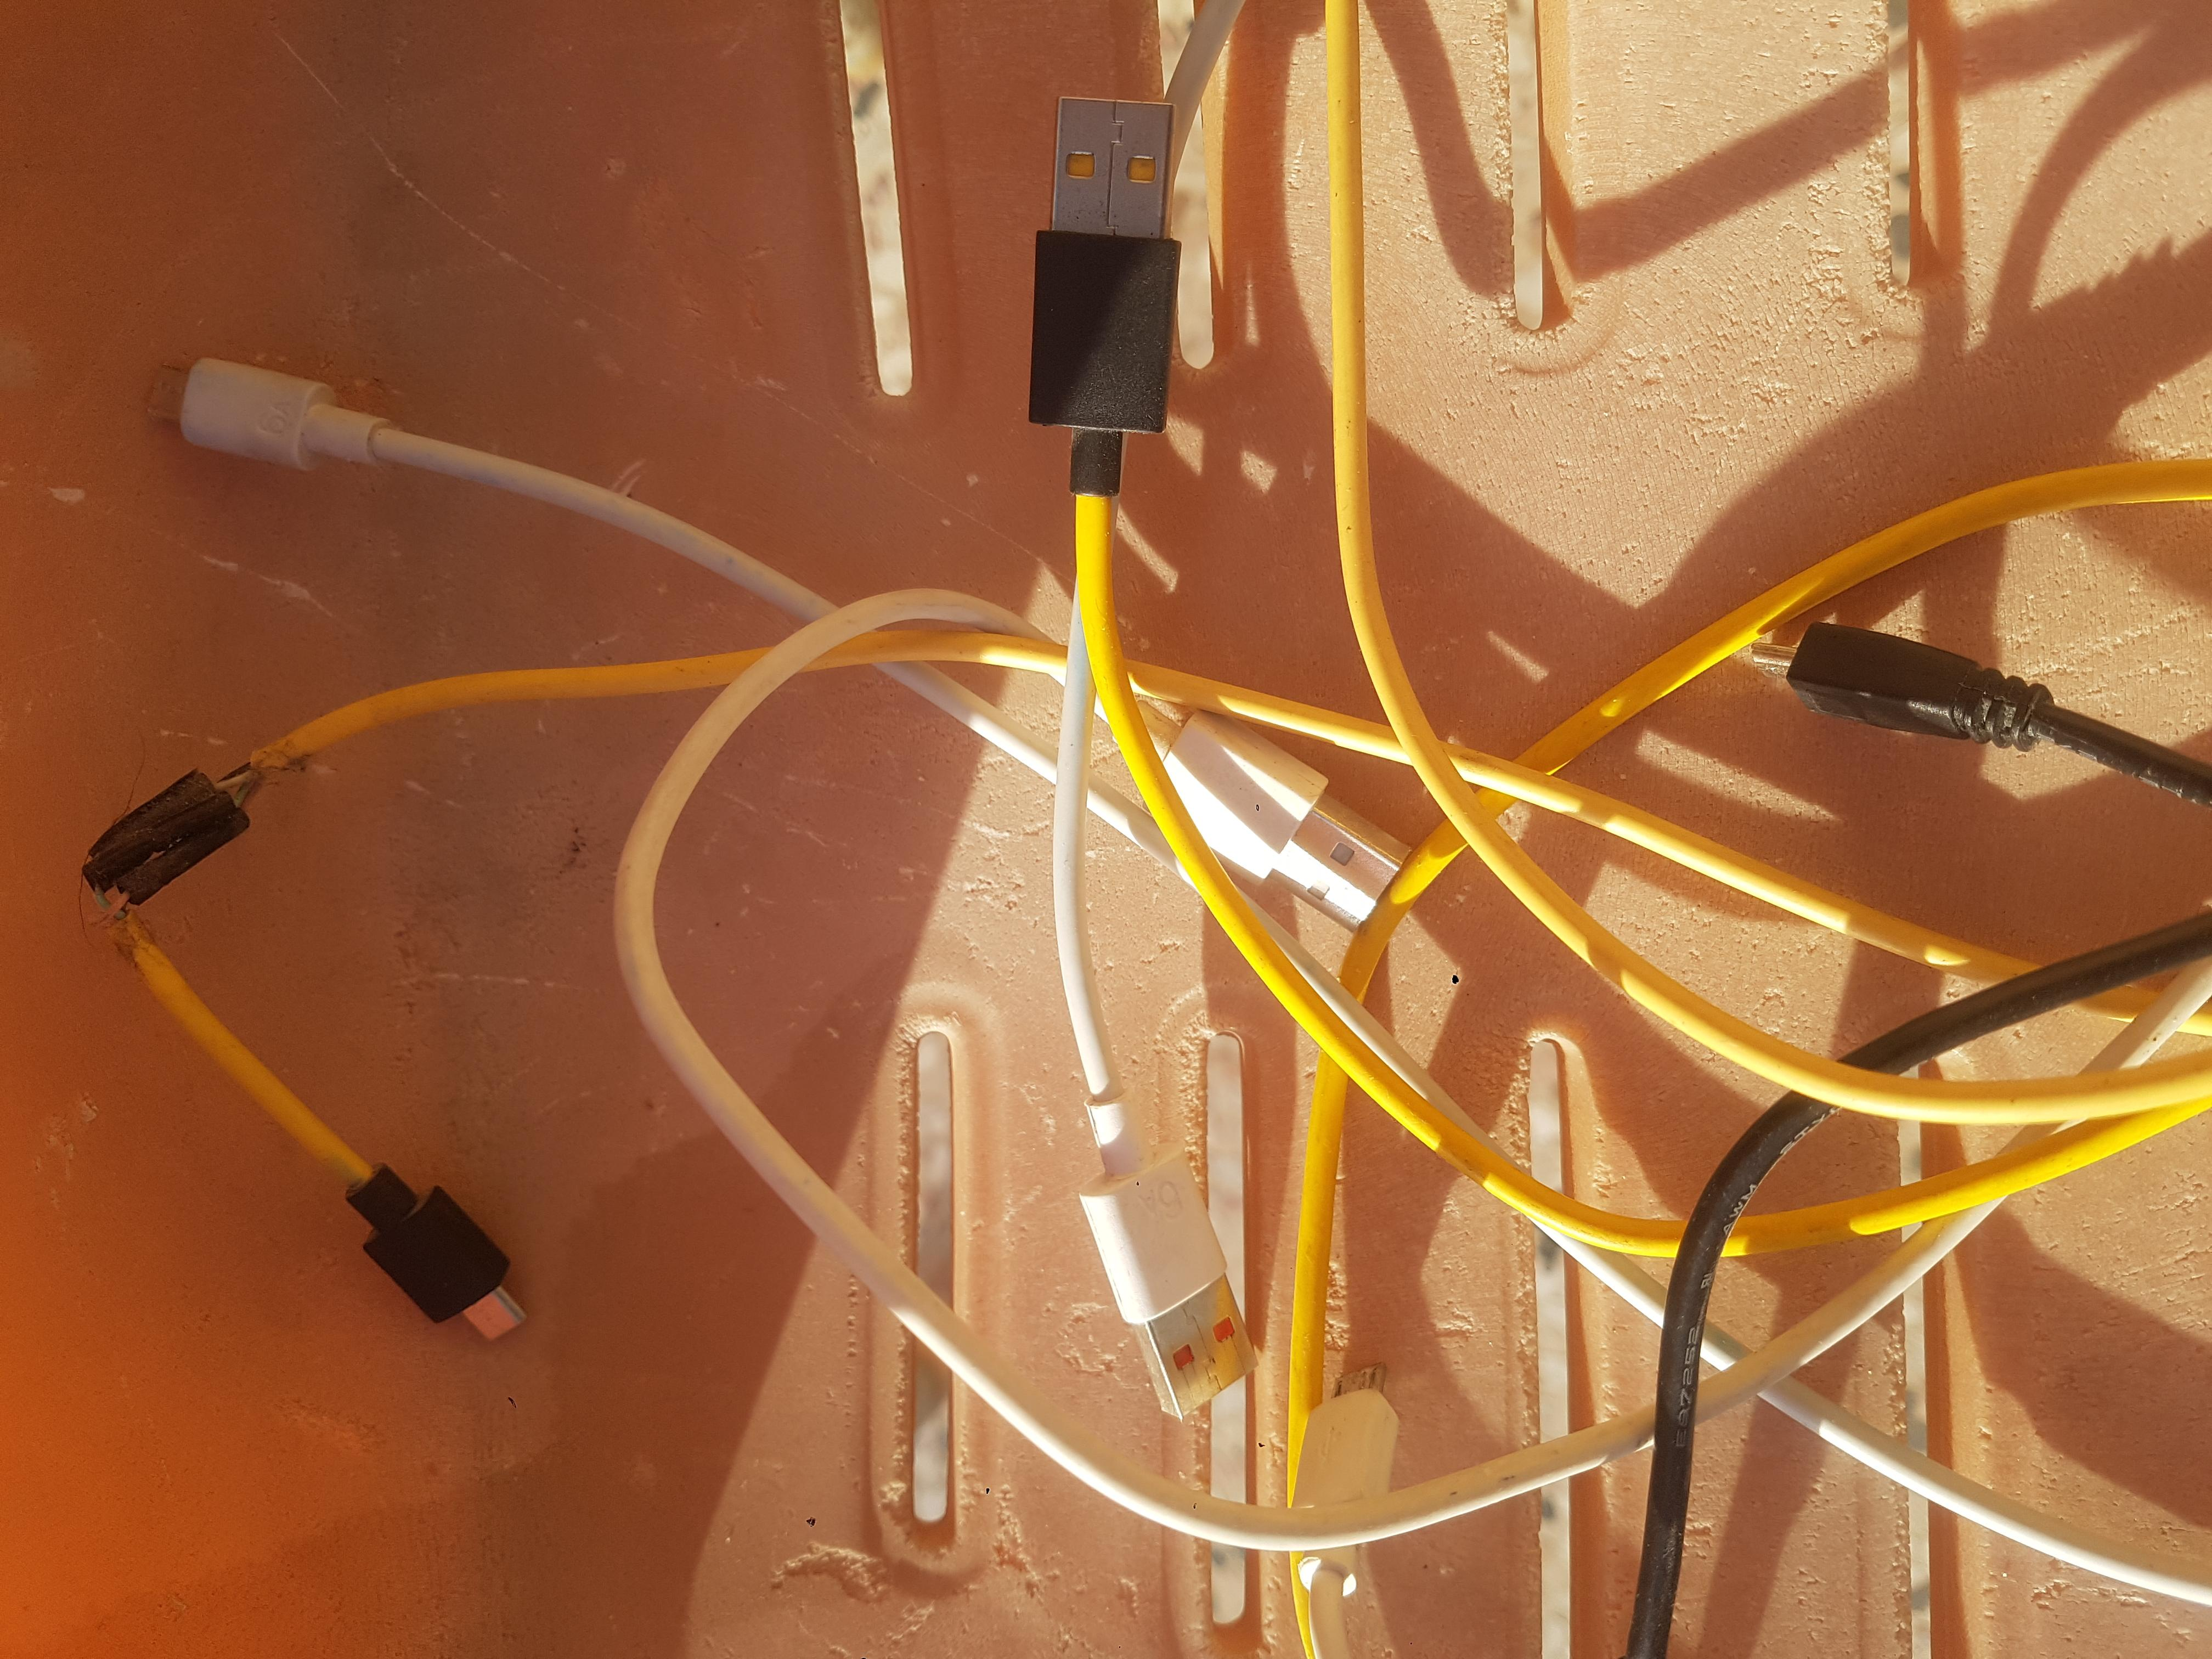electronic: (35, 12, 1975, 1621)
